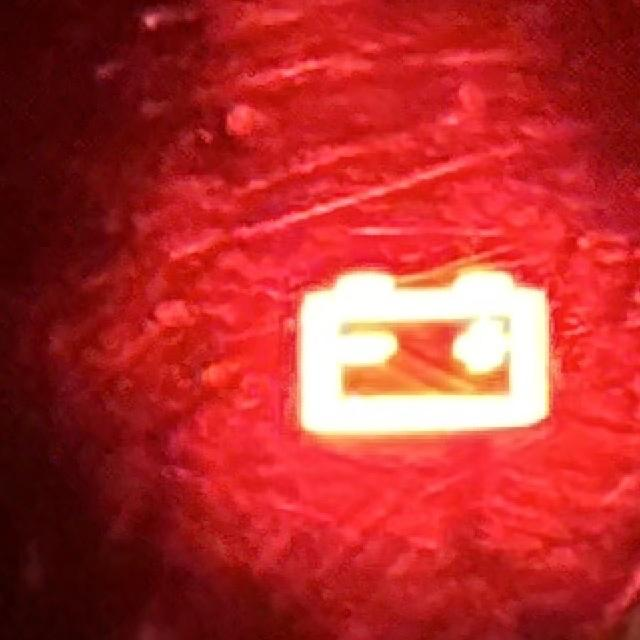Battery Issue: (291, 260, 562, 450)
